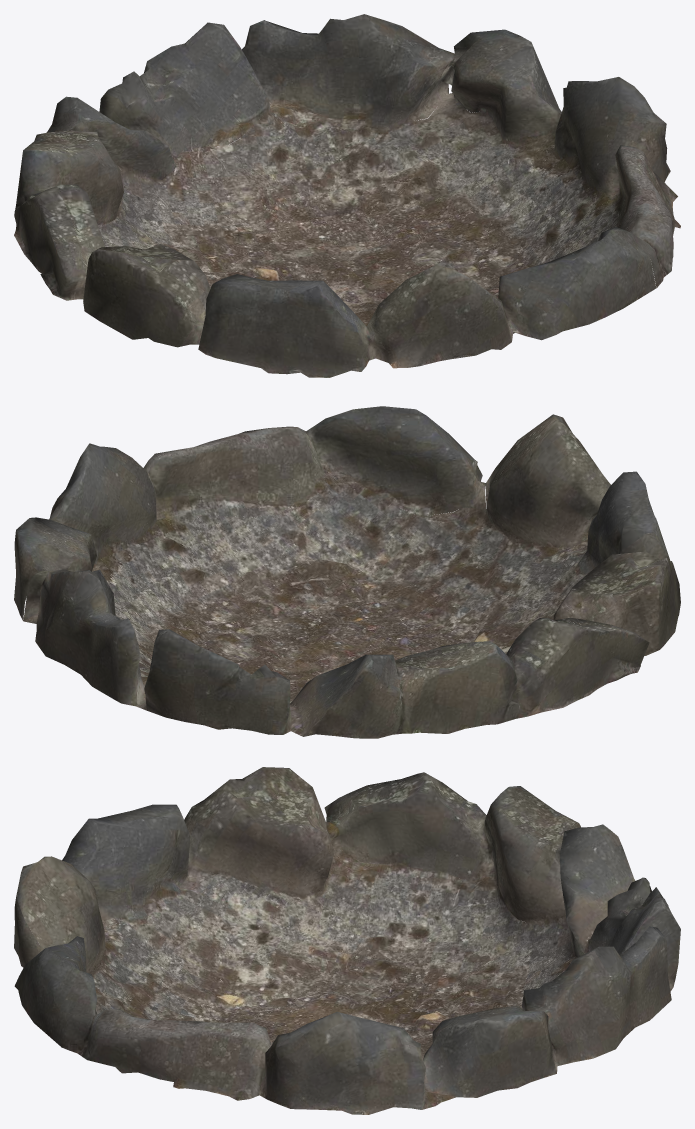
Rendered from stone_fire_pit_lod.glb.
3 renders of one model, top to bottom at view 1: azimuth 30°, elevation 25°; view 2: azimuth 150°, elevation 25°; view 3: azimuth 270°, elevation 25°, orthographic.
Parts seen in each view (by area): view 1: stone_fire_pit; view 2: stone_fire_pit; view 3: stone_fire_pit.
Part boxes in pixels (x1=…): stone_fire_pit: x1=14, y1=14, x2=680, y2=377; stone_fire_pit: x1=14, y1=406, x2=680, y2=738; stone_fire_pit: x1=14, y1=767, x2=680, y2=1114.
Size of the model in its own units: 1.45 by 0.3864 by 1.43.
Materials: 1 (1 with a texture image).
